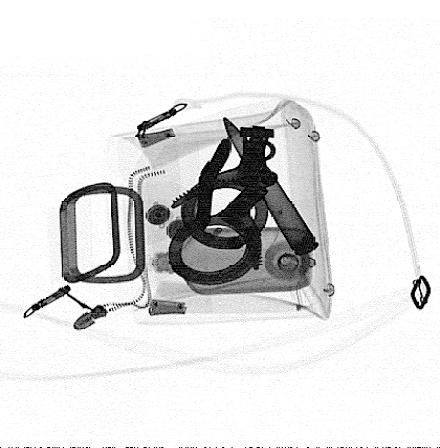Bullet: (224, 117, 320, 256)
Gun: (191, 138, 233, 228)
HandCuffs: (165, 123, 277, 288)
